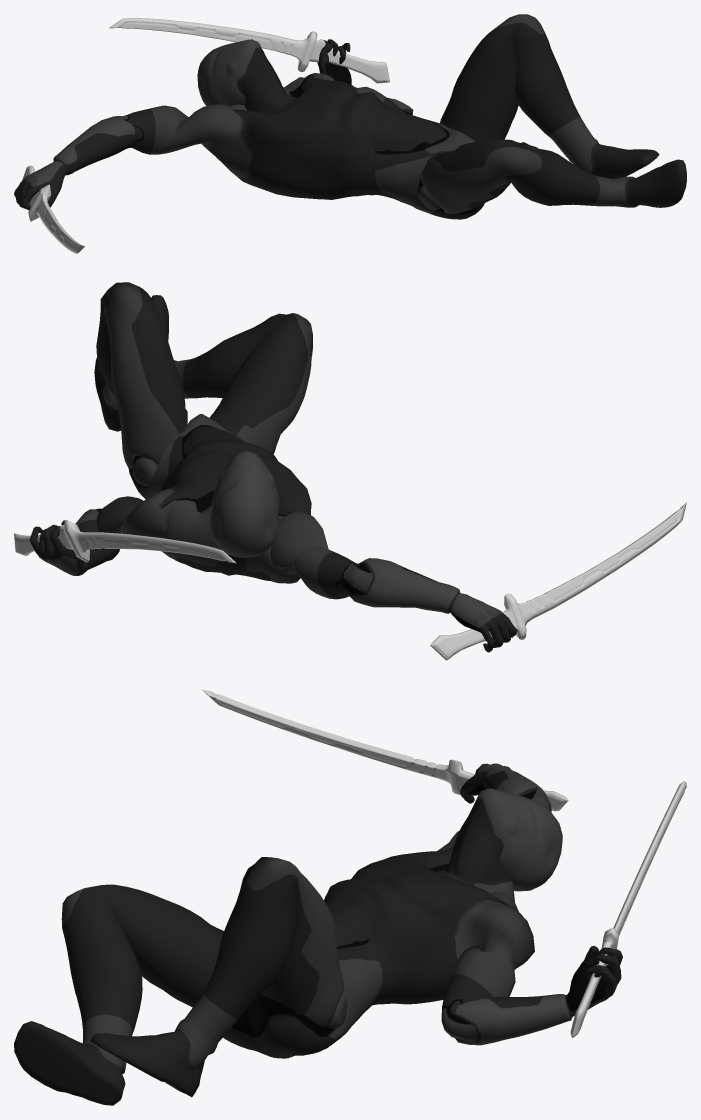
3 views of the same model, one above another, from view 1: azimuth 30°, elevation 25°; view 2: azimuth 150°, elevation 25°; view 3: azimuth 270°, elevation 25° (orthographic). The views are drawn at different scales.
Visible parts, largest first — view 1: Cyborg_Ninja_Killer, Sword_l, Sword_l001; view 2: Cyborg_Ninja_Killer, Sword_l001, Sword_l; view 3: Cyborg_Ninja_Killer, Sword_l001, Sword_l.
Part boxes in pixels (x1,y1,x2,y2): Cyborg_Ninja_Killer: (14,14,686,219); Sword_l: (109,18,389,83); Sword_l001: (22,165,84,253); Cyborg_Ninja_Killer: (30,282,517,652); Sword_l001: (430,502,686,660); Sword_l: (14,520,236,563); Cyborg_Ninja_Killer: (14,763,622,1105); Sword_l001: (201,689,568,811); Sword_l: (570,781,686,1038).
Bounding box in the file's own units: 186 × 59.21 × 152.
